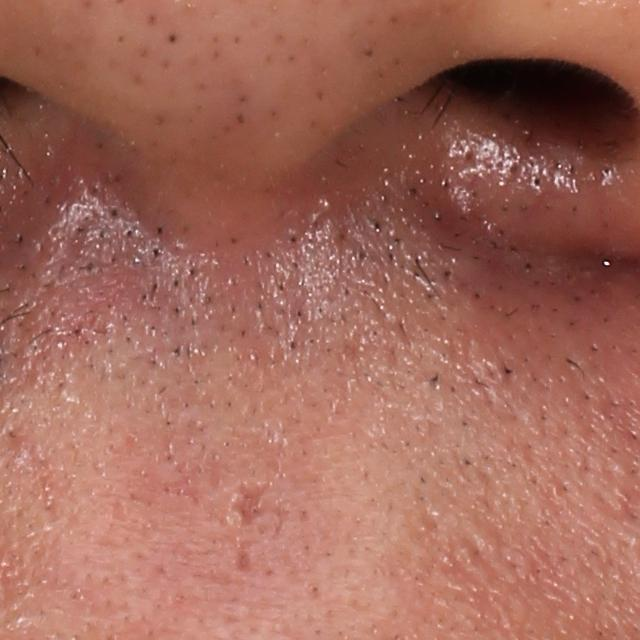atrophic_scar: (224, 465, 290, 543), (228, 544, 257, 575)
